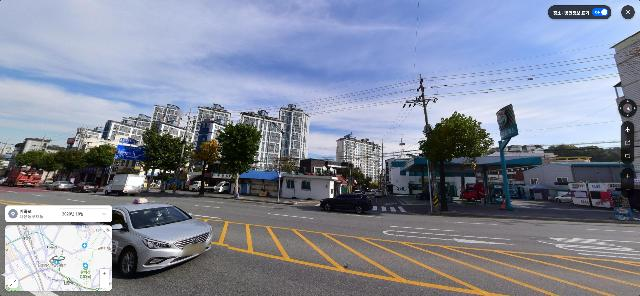ginkgo: (188, 139, 220, 196)
other: (418, 112, 495, 213), (135, 123, 195, 191), (215, 121, 262, 199), (83, 145, 118, 185), (60, 148, 86, 183), (40, 149, 63, 186), (26, 150, 47, 171), (10, 152, 29, 168)
